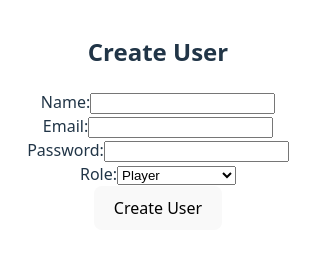
Test case: CreateUserForm › submits the form and shows a success message
// Fill out the form
Type "Test User" into the field labelled "Name:" at (183, 104), box left=90, top=93, right=275, bottom=114
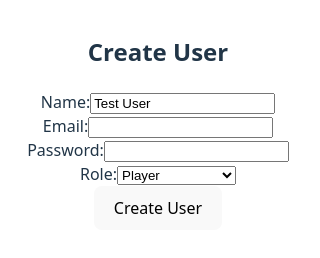
Type "test@example.com" into the field labelled "Email:" at (181, 128), box left=88, top=117, right=273, bottom=138
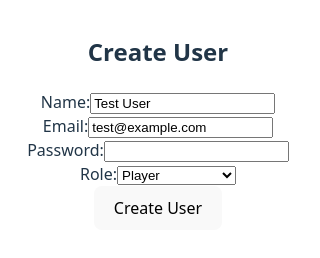
Type "password123" into the password field labelled "Password:" at (196, 152), box left=104, top=141, right=289, bottom=162
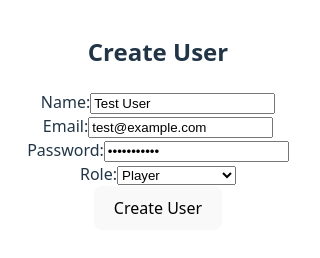
Select "Player" in the dropdown labelled "Role:" at (176, 176), box left=117, top=166, right=236, bottom=185
// Submit the form
Click the button "Create User" at (158, 208), box left=94, top=186, right=222, bottom=230
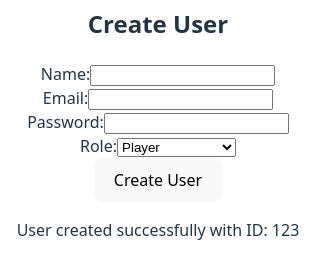
Expected: the text "User created successfully with ID: 123" is shown, left=17, top=218, right=299, bottom=242
